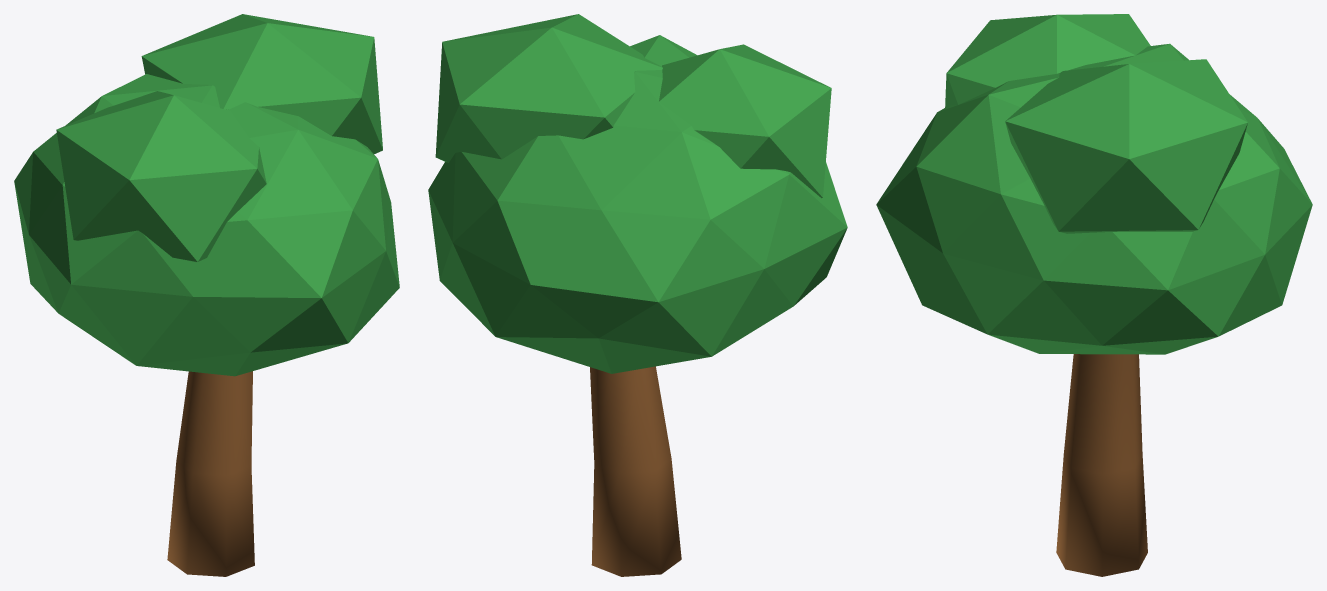
File: tree-a.glb
3 views of the same model, side by side, from view 1: azimuth 30°, elevation 25°; view 2: azimuth 150°, elevation 25°; view 3: azimuth 270°, elevation 25° (orthographic). The views are drawn at different scales.
Parts seen in each view (by area): view 1: leaves, trunk; view 2: leaves, trunk; view 3: leaves, trunk.
Part boxes in pixels (left/top/right/bottom): leaves: left=14, top=14, right=399, bottom=376; trunk: left=167, top=371, right=254, bottom=576; leaves: left=428, top=14, right=847, bottom=373; trunk: left=590, top=366, right=681, bottom=576; leaves: left=876, top=14, right=1312, bottom=354; trunk: left=1056, top=354, right=1147, bottom=576.
Bounding box in the file's own units: 2.87 × 4 × 3.
